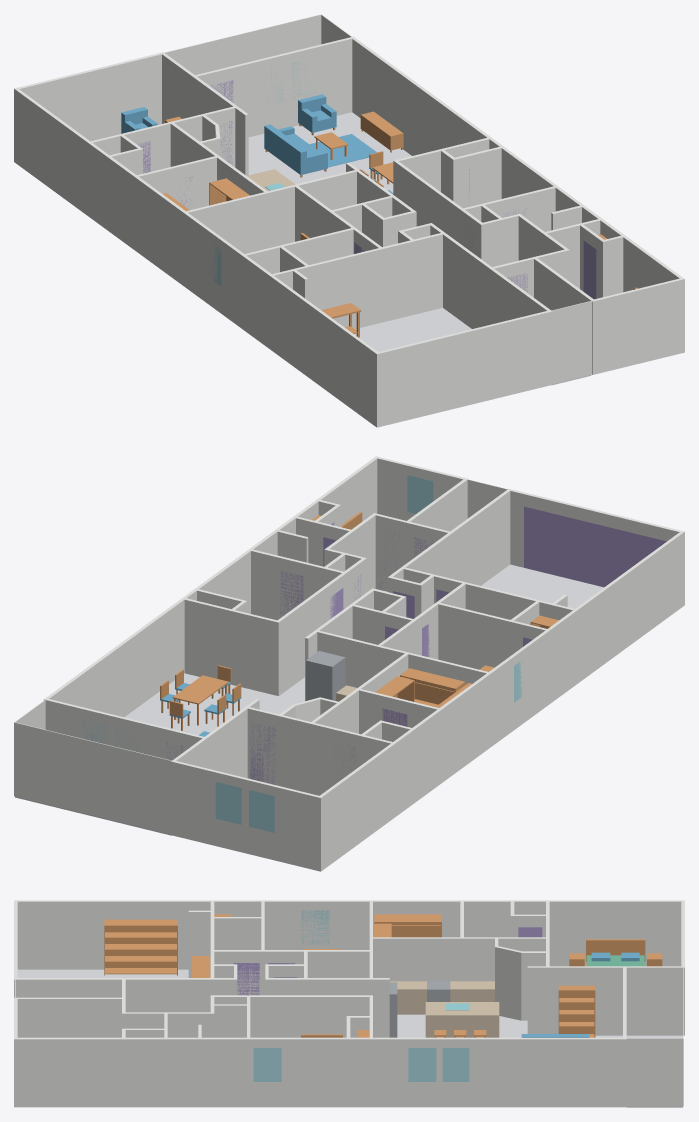
The model's file is prism-furnished.glb.
The picture shows the model from 3 angles, top to bottom: view 1: azimuth 30°, elevation 25°; view 2: azimuth 150°, elevation 25°; view 3: azimuth 270°, elevation 25°; orthographic projection. The views are drawn at different scales.
Parts seen in each view (by area): view 1: wall-32, wall-70, wall-29, wall-66, wall-51, wall-18, wall-42, wall-43, wall-01, wall-22, wall-73, wall-69 (+47 smaller); view 2: wall-22, wall-66, wall-29, wall-51, door-09, wall-42, wall-70, wall-43, wall-23, wall-85, wall-73, wall-37 (+45 smaller); view 3: wall-51, wall-29, wall-07, wall-14, wall-42, wall-43, wall-26, wall-82, garage-shelving, wall-61, wall-63, wall-35 (+49 smaller).
Part boxes in pixels (left/top/right/bottom): wall-32: left=377, top=311, right=552, bottom=427; wall-70: left=194, top=36, right=352, bottom=137; wall-29: left=269, top=275, right=377, bottom=427; wall-66: left=14, top=52, right=162, bottom=141; wall-51: left=352, top=36, right=491, bottom=155; wall-18: left=592, top=278, right=684, bottom=374; wall-42: left=14, top=88, right=90, bottom=215; wall-43: left=183, top=212, right=244, bottom=328; wall-01: left=308, top=248, right=382, bottom=328; wall-22: left=163, top=14, right=321, bottom=74; wall-73: left=134, top=176, right=185, bottom=285; wall-69: left=443, top=233, right=491, bottom=328; wall-22: left=14, top=722, right=172, bottom=834; wall-66: left=171, top=761, right=320, bottom=871; wall-29: left=575, top=531, right=684, bottom=683; wall-51: left=44, top=598, right=184, bottom=717; door-09: left=524, top=506, right=666, bottom=587; wall-42: left=320, top=743, right=395, bottom=871; wall-70: left=43, top=699, right=204, bottom=760; wall-43: left=489, top=630, right=549, bottom=746; wall-23: left=450, top=489, right=510, bottom=585; wall-85: left=437, top=603, right=510, bottom=669; wall-73: left=439, top=673, right=490, bottom=782; wall-37: left=250, top=549, right=324, bottom=620; wall-51: left=371, top=1037, right=626, bottom=1107; wall-29: left=14, top=900, right=212, bottom=969; wall-07: left=14, top=1037, right=123, bottom=1107; wall-14: left=248, top=1037, right=348, bottom=1107; wall-42: left=547, top=900, right=684, bottom=966; wall-43: left=263, top=900, right=371, bottom=949; wall-26: left=248, top=995, right=372, bottom=1037; wall-82: left=15, top=997, right=123, bottom=1037; garage-shelving: left=104, top=919, right=177, bottom=975; wall-61: left=625, top=966, right=684, bottom=1035; wall-63: left=625, top=1038, right=683, bottom=1106; wall-35: left=372, top=937, right=462, bottom=981.
Bounding box in the file's own units: 10.71 × 2.49 × 21.86.
